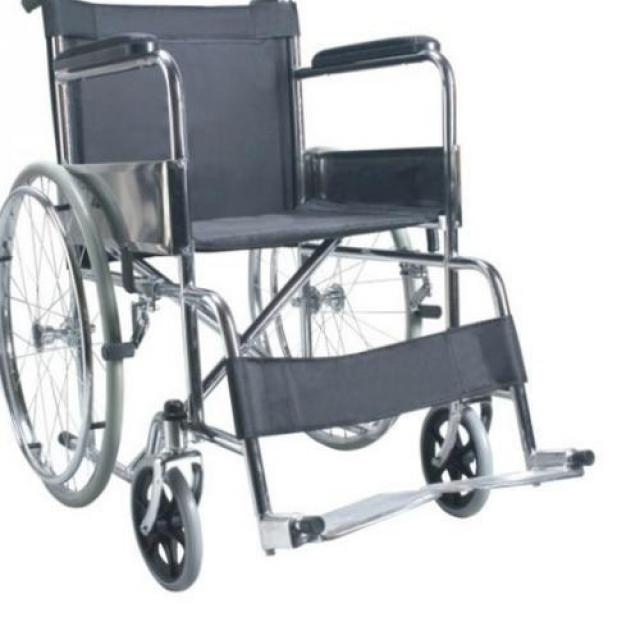wheelchair: (0, 0, 599, 595)
